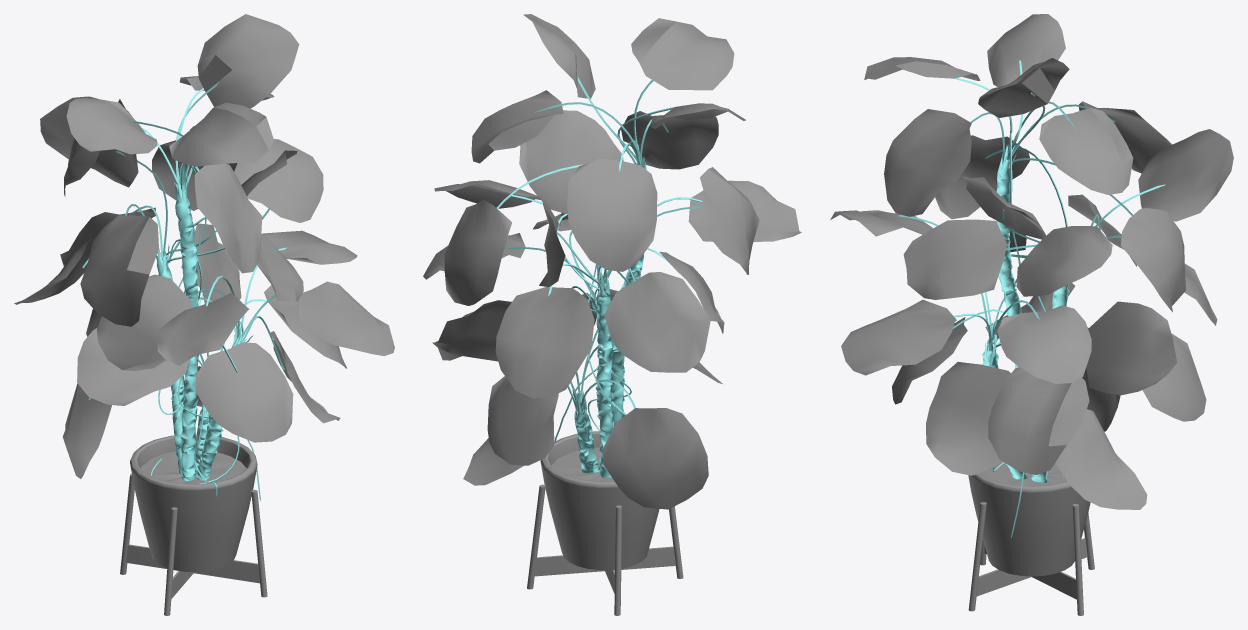
The model's file is Plant.FBX.
The picture shows the model from 3 angles, left to right: view 1: azimuth 30°, elevation 25°; view 2: azimuth 150°, elevation 25°; view 3: azimuth 270°, elevation 25°; orthographic projection. The views are drawn at different scales.
Visible parts, largest first — view 1: Plant; view 2: Plant; view 3: Plant.
Part boxes in pixels (box(x1,y1,x2,y2)): Plant: box(14, 14, 394, 615); Plant: box(423, 14, 801, 615); Plant: box(830, 14, 1233, 615).
Size of the model in its own units: 5 by 8.7 by 5.66.
